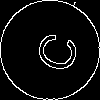C: (25, 25, 81, 76)
